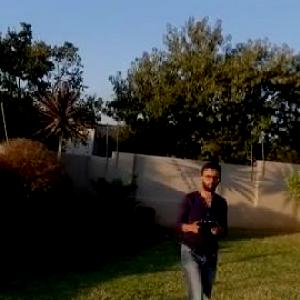follow: (176, 154, 236, 299)
